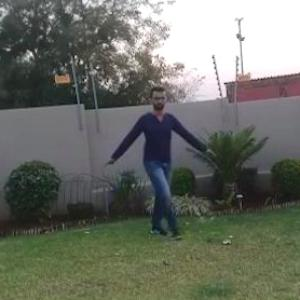land: (105, 93, 209, 231)
